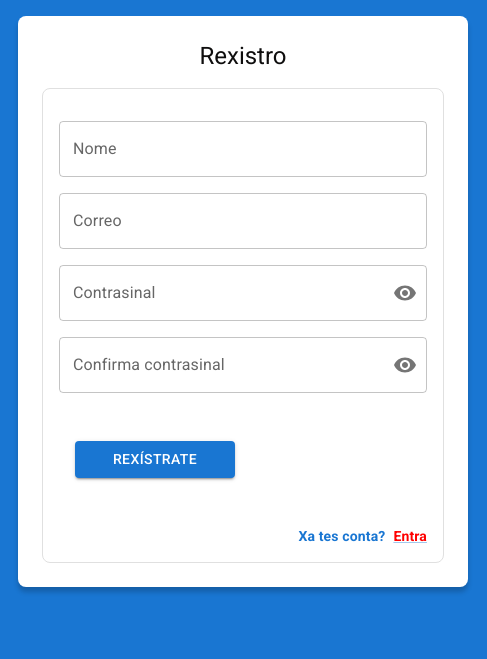
Test: Register Page › should display error message when input contains injection characters: <script>alert('XSS')</script>
Type "testUser" into the field labelled "Nome" at (243, 149), box left=59, top=121, right=427, bottom=177
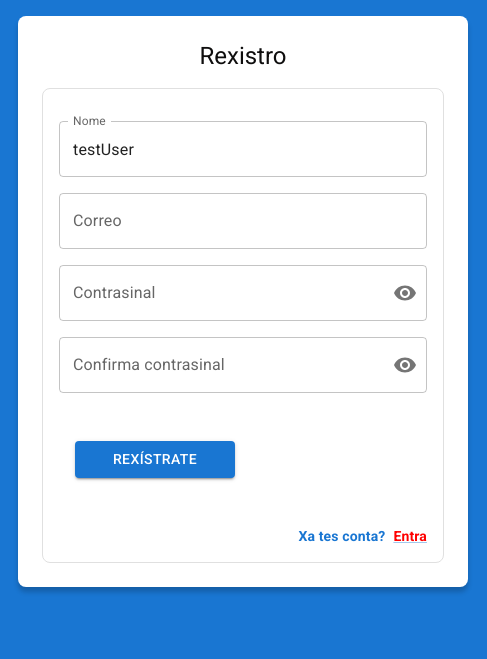
Type "das@das.com" into the field labelled "Correo" at (243, 221), box left=59, top=193, right=427, bottom=249
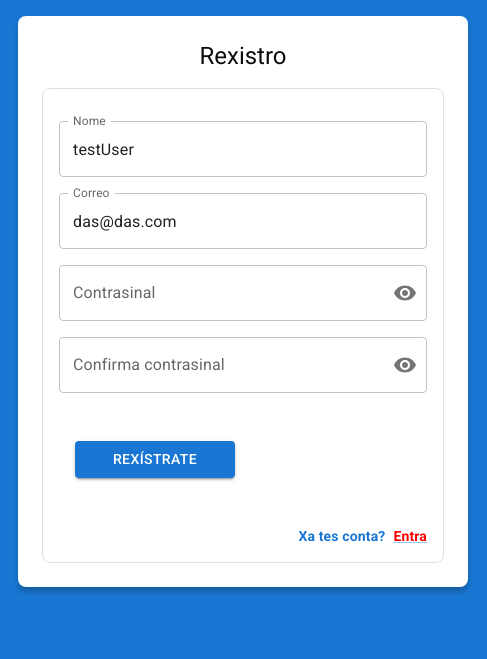
Type "<script>alert('XSS')</script>" into the password field labelled "Contrasinal" at (218, 293), box left=59, top=265, right=377, bottom=321
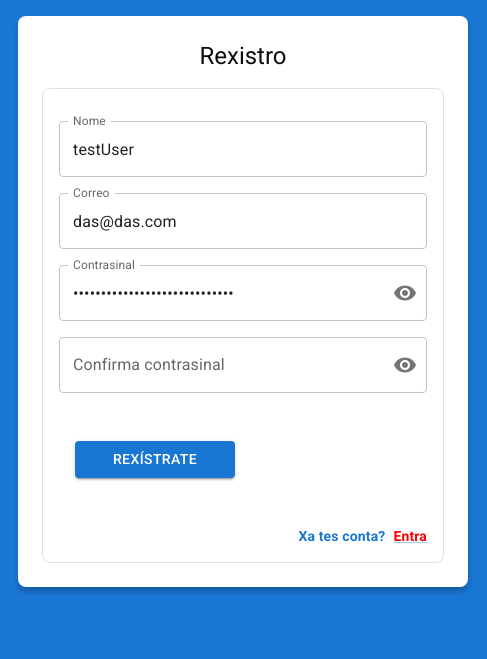
Type "Password.123" into the password field labelled "Confirma contrasinal" at (218, 365), box left=59, top=337, right=377, bottom=393
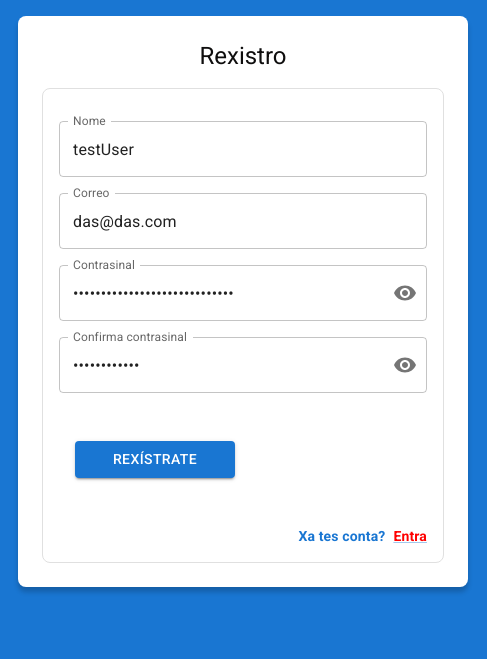
Click the button "Rexístrate" at (155, 459), box left=75, top=441, right=235, bottom=478
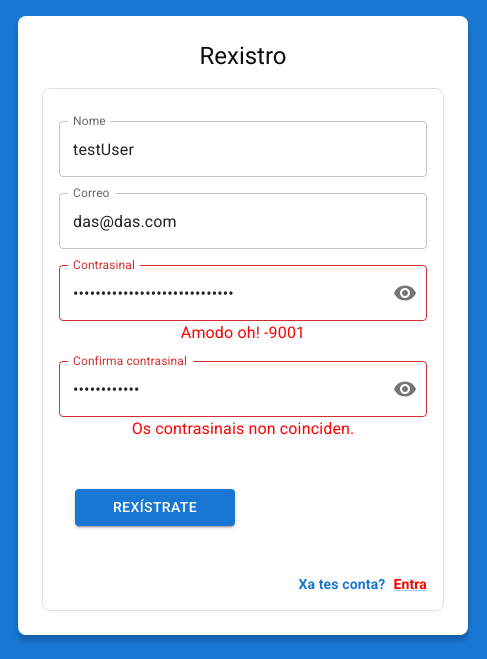
Expected: the text "Amodo oh! -9001" is shown, left=181, top=323, right=305, bottom=342
